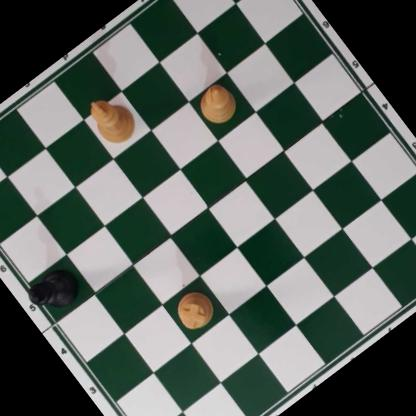black-king: (22, 260, 85, 322)
white-bishop: (192, 79, 243, 130)
white-king: (81, 87, 143, 152)
white-rook: (169, 285, 221, 336)
